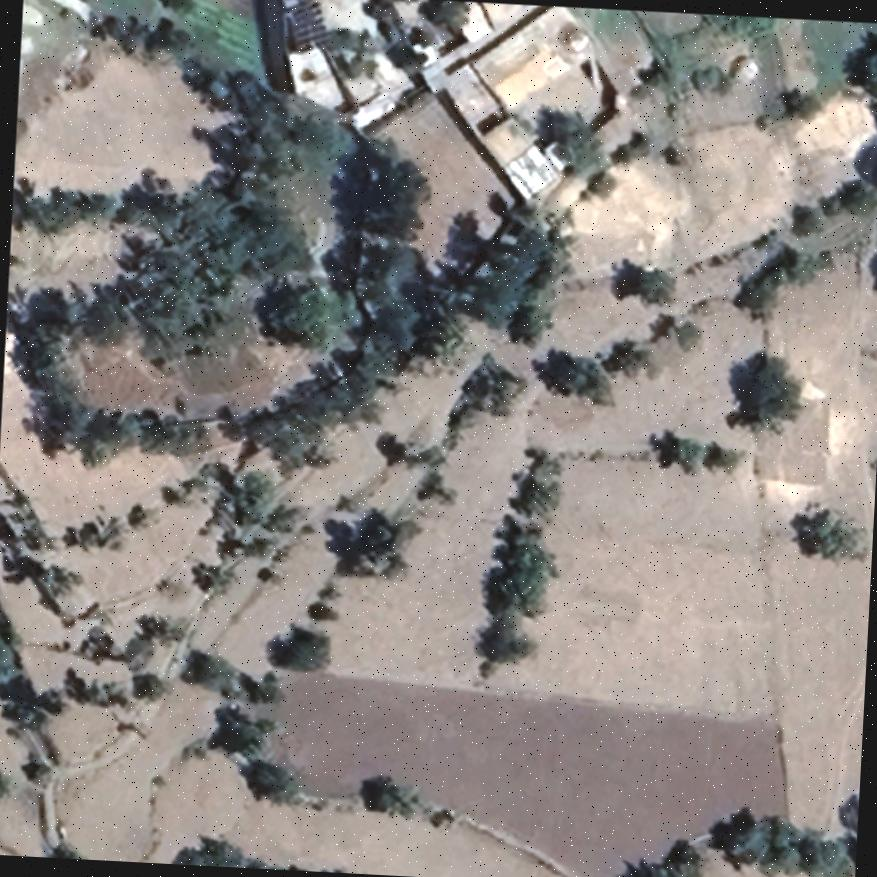Solarpanel: (279, 0, 338, 56)
